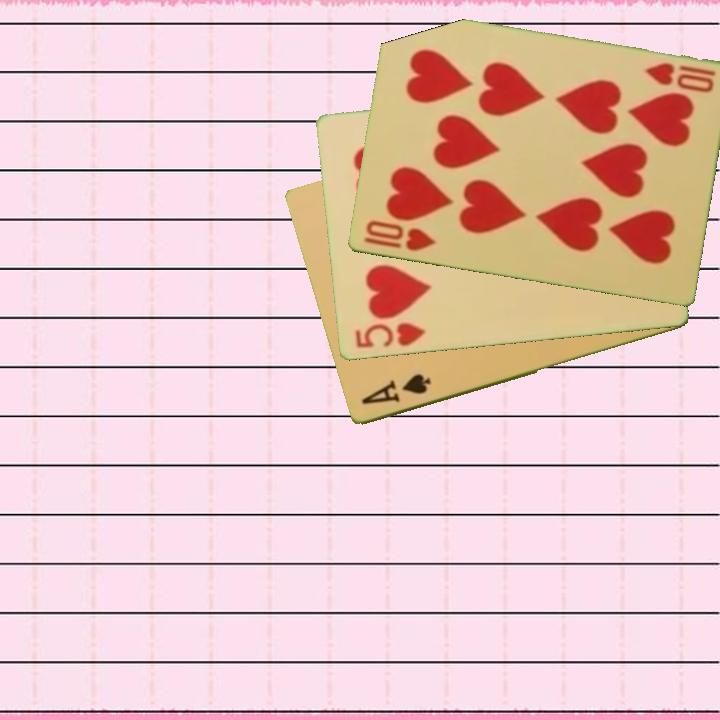10h: (359, 217, 438, 255), (641, 59, 719, 96)
5h: (351, 319, 428, 352)
As: (357, 370, 434, 408)
